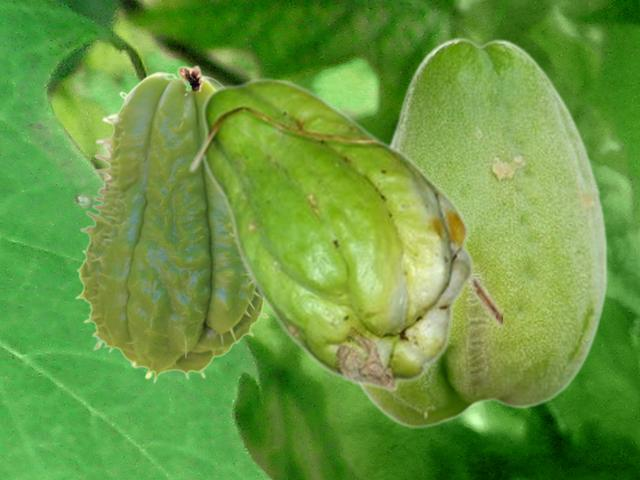sayote: (187, 77, 501, 391), (356, 36, 607, 427), (74, 64, 271, 383)
